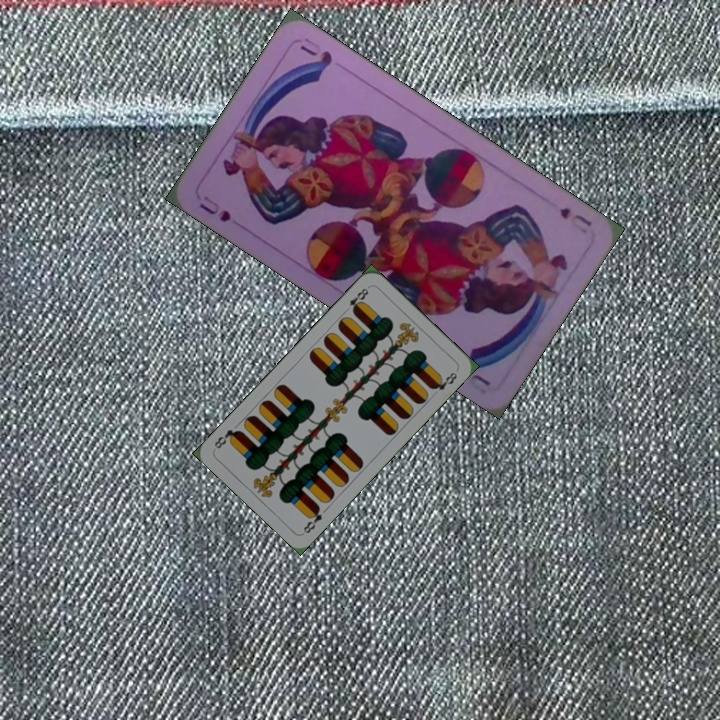E8: (299, 502, 325, 536), (345, 283, 372, 315)
SU: (195, 191, 234, 225), (555, 203, 595, 230)
